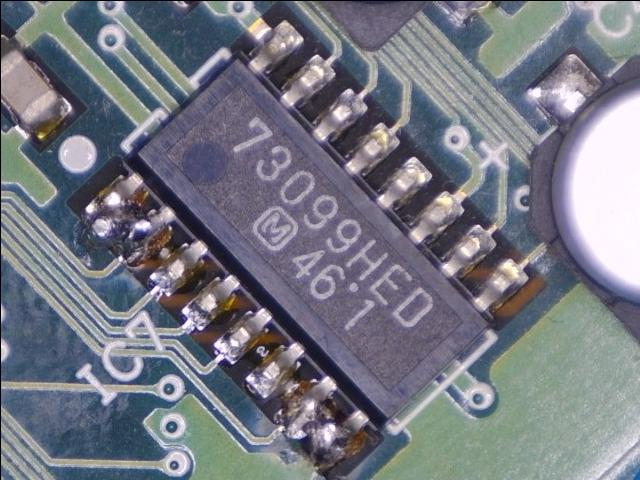Short_circuit: (275, 376, 370, 474), (80, 172, 177, 267)
